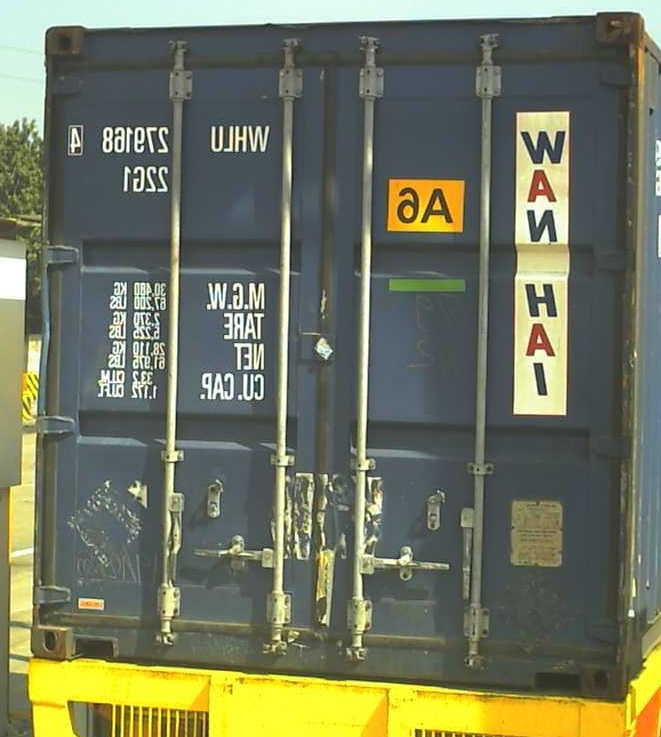container_door: (35, 6, 638, 675)
